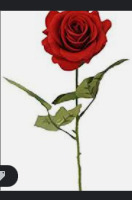RedRose: (41, 10, 104, 63)
